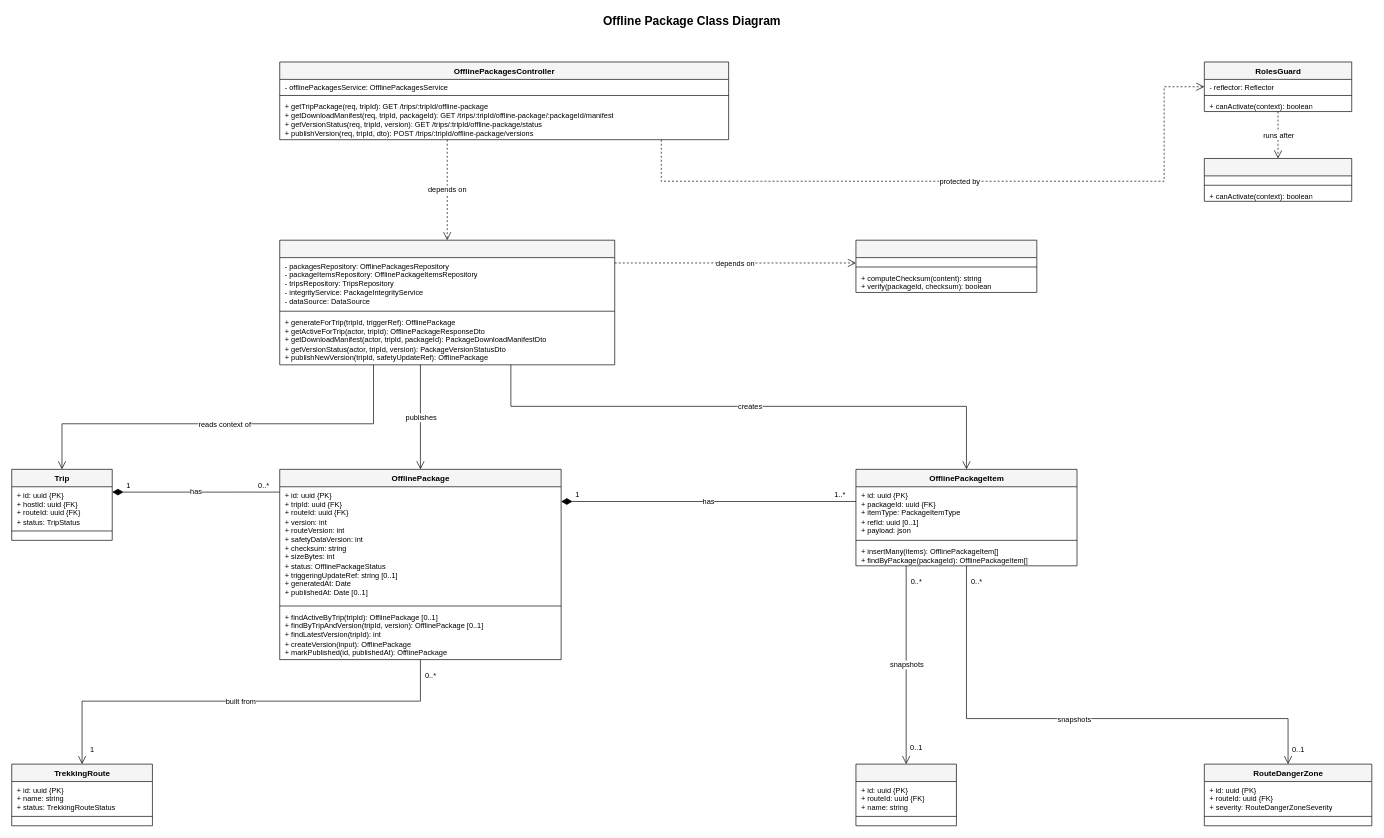
Some shapes in this 1384 by 838 pixel diagram are drawn without their labels. The box of each missing label's shape, as (x1, y1, x2, y2) in pixels:
Checkpoint: (855, 763, 956, 826)
JwtAuthGuard: (1204, 158, 1352, 201)
OfflinePackagesService: (279, 240, 615, 365)
PackageIntegrityService: (855, 240, 1037, 292)
